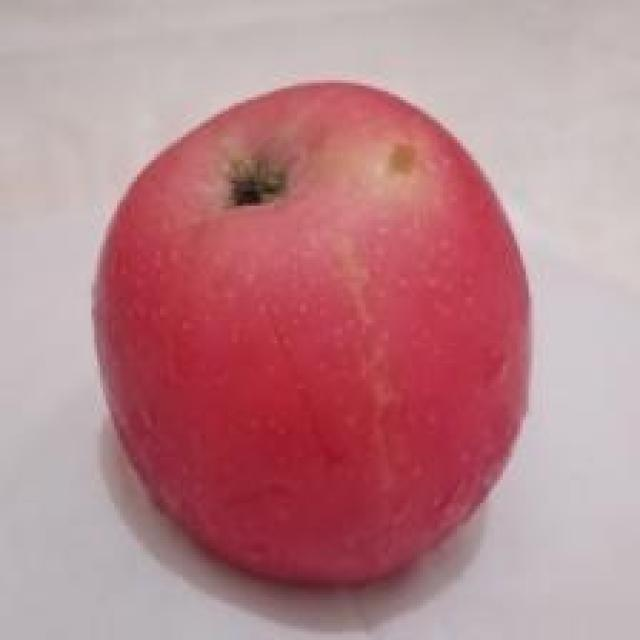apple: (66, 55, 585, 640)
